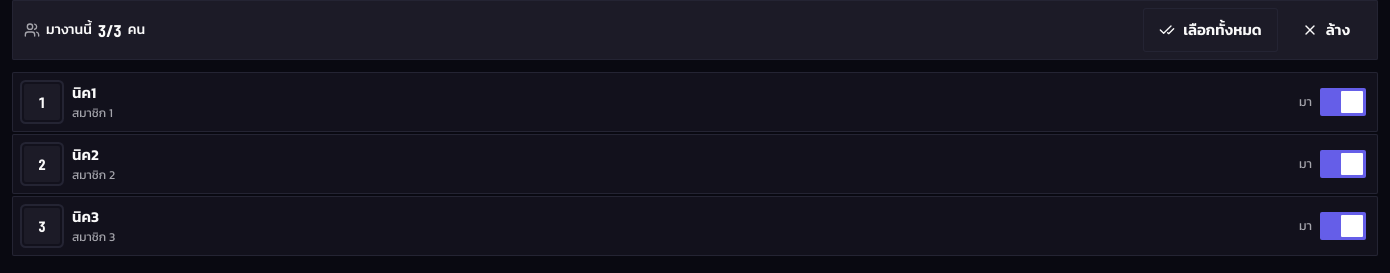
LineupEditor · a write that changed nothing on the server › no session: taking a member off that removed nobody is ยังไม่ได้บันทึก, and she is back on
The width and height of the screenshot is (1390, 273).
Step 1. Click the button "2 นิค2 สมาชิก 2 มา" → point(42, 164), box left=12, top=134, right=1378, bottom=194
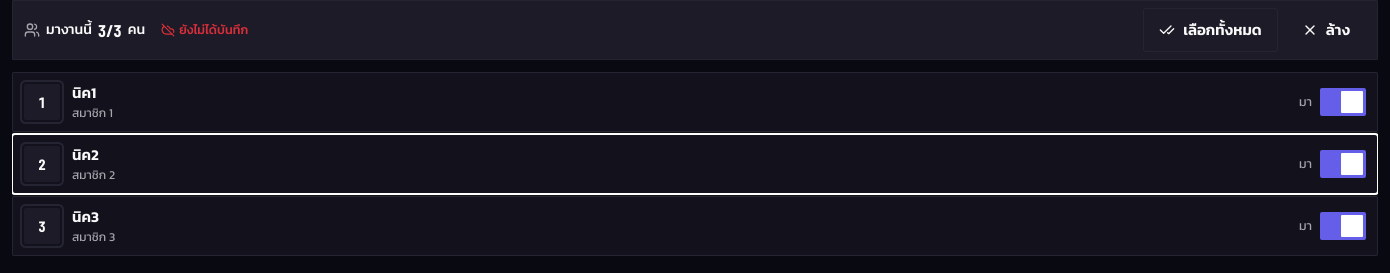
Expected: the text "ยังไม่ได้บันทึก" is shown, left=161, top=21, right=248, bottom=39
